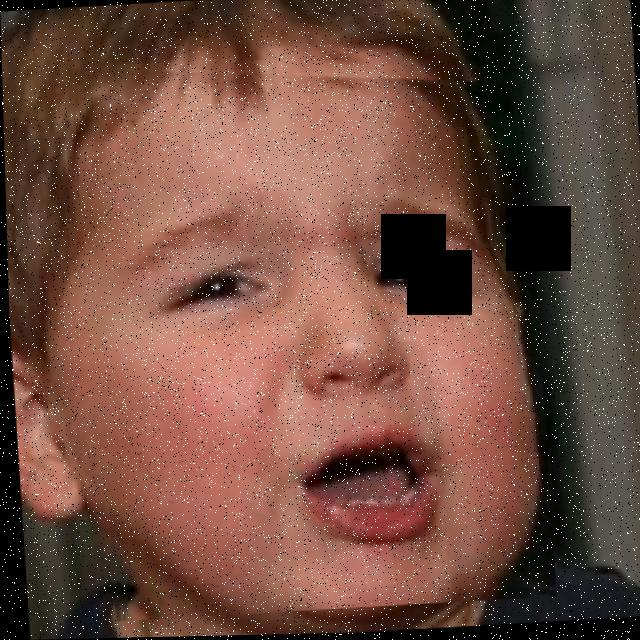sad: (72, 45, 553, 622)
